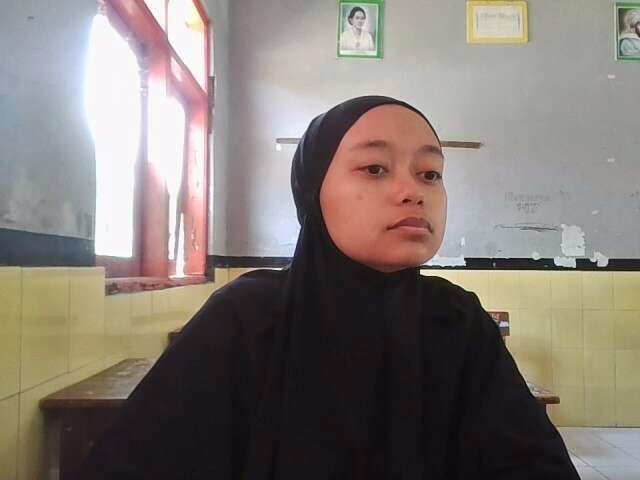cheating: (68, 73, 609, 480)
